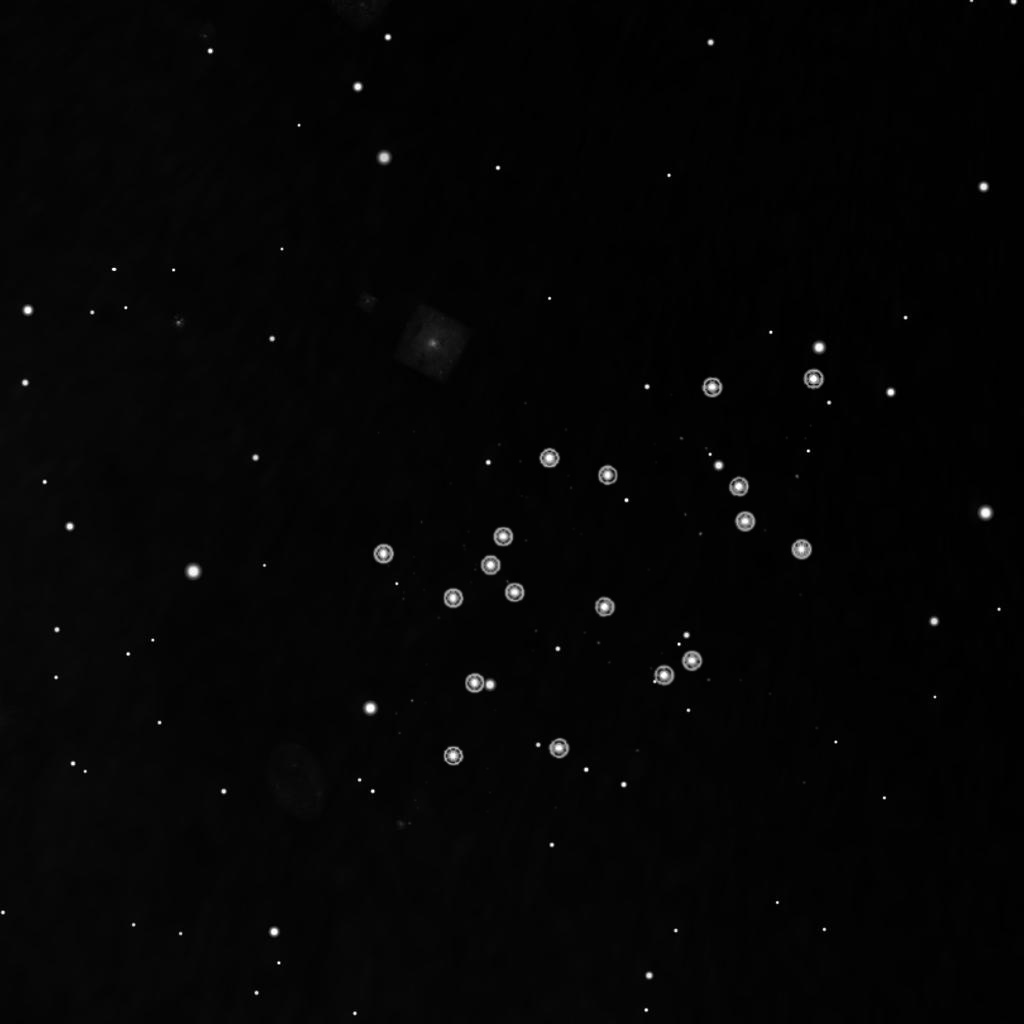canis_major: (435, 445, 624, 616)
